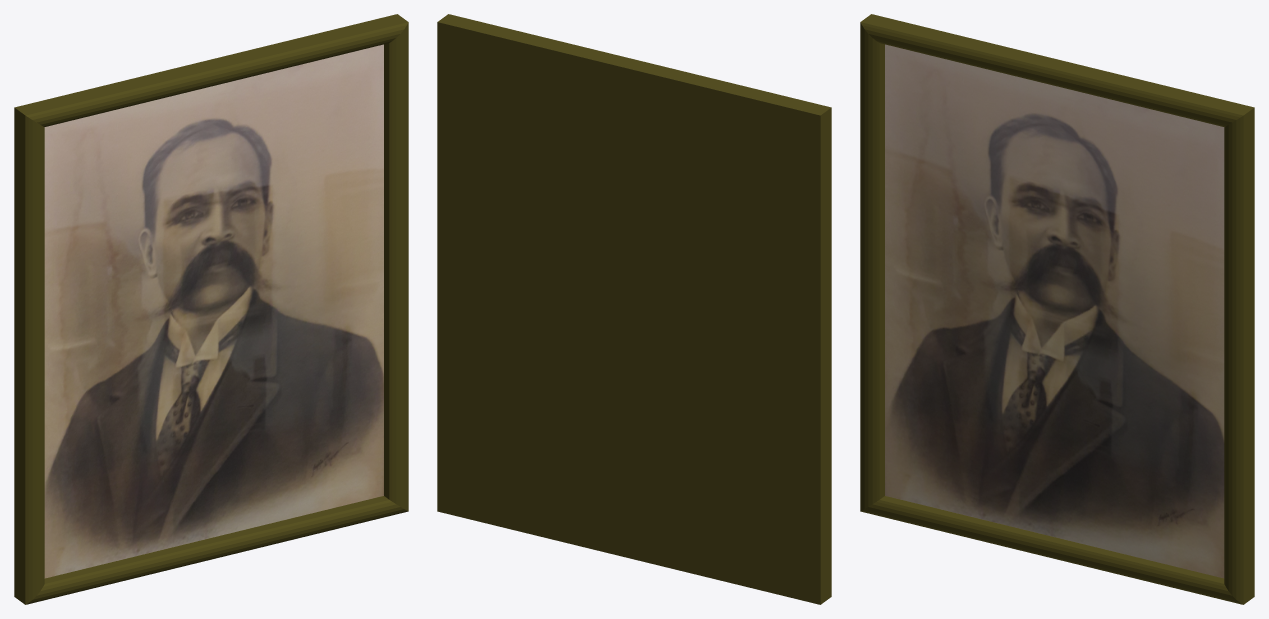
File: Marco_6.fbx
The picture shows the model from 3 angles, left to right: view 1: azimuth 30°, elevation 25°; view 2: azimuth 150°, elevation 25°; view 3: azimuth 330°, elevation 25°; orthographic projection.
Parts seen in each view (by area): view 1: Cube; view 2: Cube; view 3: Cube.
Part boxes in pixels (left/top/right/bottom): Cube: left=14, top=14, right=408, bottom=604; Cube: left=437, top=14, right=831, bottom=604; Cube: left=860, top=14, right=1254, bottom=604.
Bounding box in the file's own units: 40 × 48.83 × 2.3.
